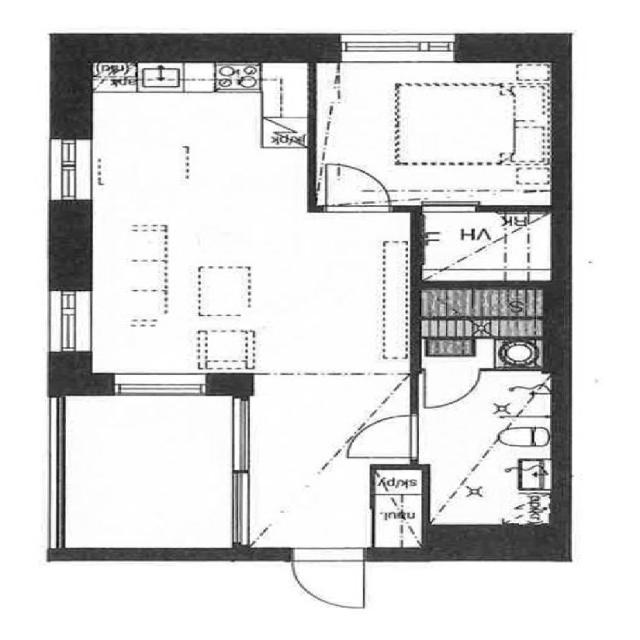door: (283, 546, 375, 615), (344, 410, 426, 464), (316, 160, 400, 212), (412, 362, 484, 412)
window: (218, 392, 267, 546), (35, 390, 81, 552), (43, 128, 97, 212), (332, 29, 462, 62), (44, 283, 96, 365), (102, 368, 218, 402)
zone: (310, 54, 560, 207), (61, 389, 238, 555), (416, 364, 560, 533), (416, 205, 559, 284), (415, 284, 551, 359), (366, 463, 430, 555)
